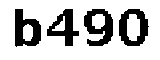0: (115, 8, 155, 54)
4: (46, 8, 81, 50)
9: (81, 5, 113, 47)
b: (12, 5, 45, 49)
